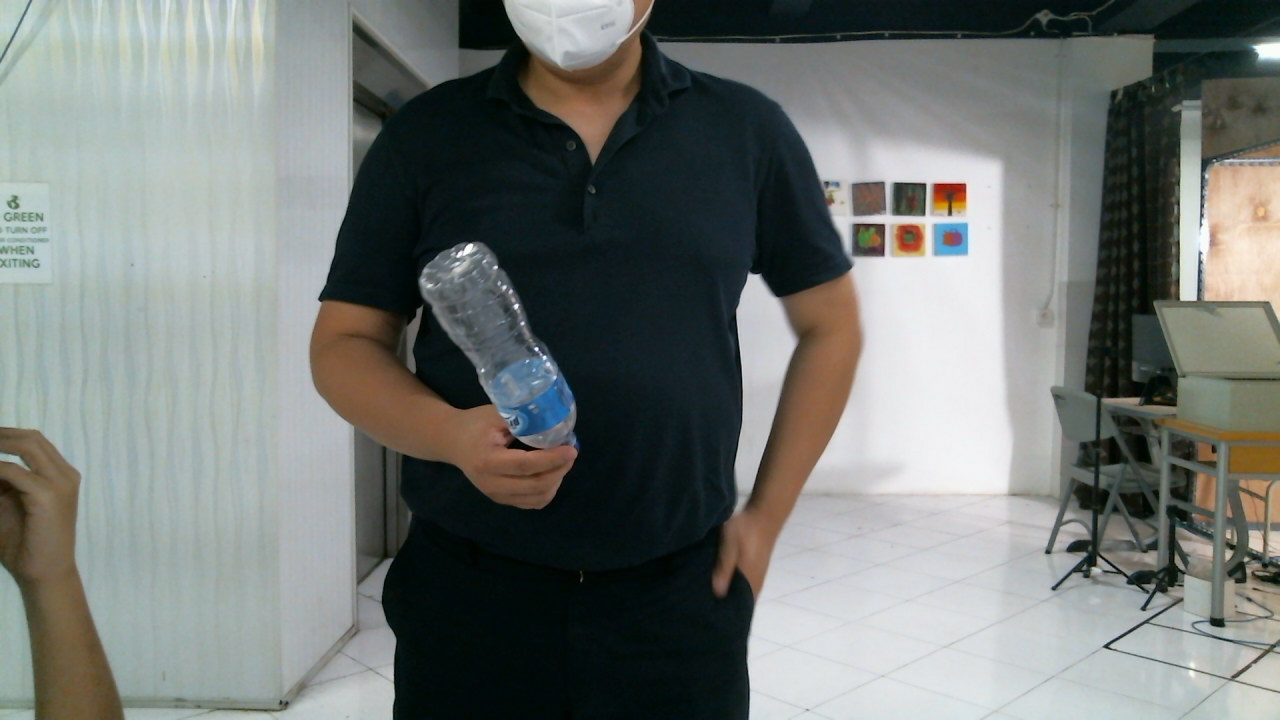Bottle: (417, 237, 581, 456)
